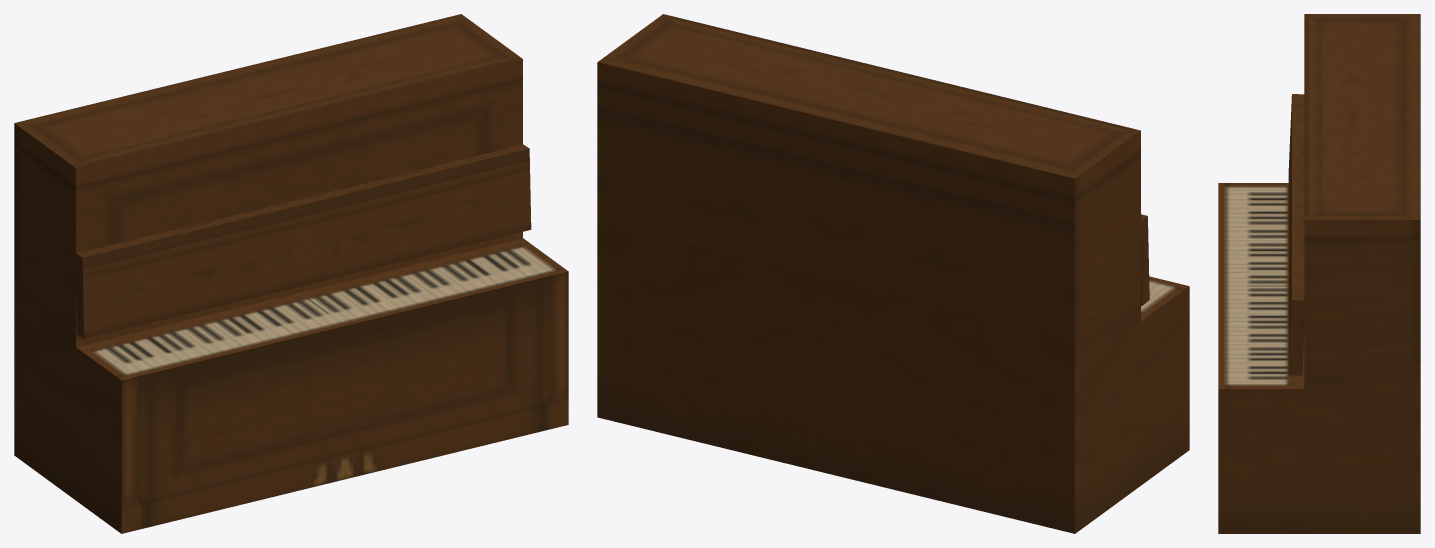
The model's file is Piano.fbx.
3 views of the same model, side by side, from view 1: azimuth 30°, elevation 25°; view 2: azimuth 150°, elevation 25°; view 3: azimuth 270°, elevation 25° (orthographic). The views are drawn at different scales.
Parts seen in each view (by area): view 1: Piano, PianoCover; view 2: Piano, PianoCover; view 3: Piano, PianoCover.
Boxes of the visible parts, x1=… form: Piano: x1=14, y1=14, x2=568, y2=533; PianoCover: x1=75, y1=144, x2=531, y2=338; Piano: x1=597, y1=14, x2=1189, y2=533; PianoCover: x1=1141, y1=214, x2=1149, y2=305; Piano: x1=1218, y1=14, x2=1420, y2=533; PianoCover: x1=1288, y1=94, x2=1305, y2=375.
Bounding box in the file's own units: 518 × 215 × 368.
